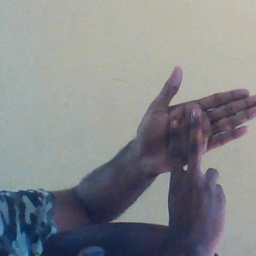N: (138, 63, 256, 222)
